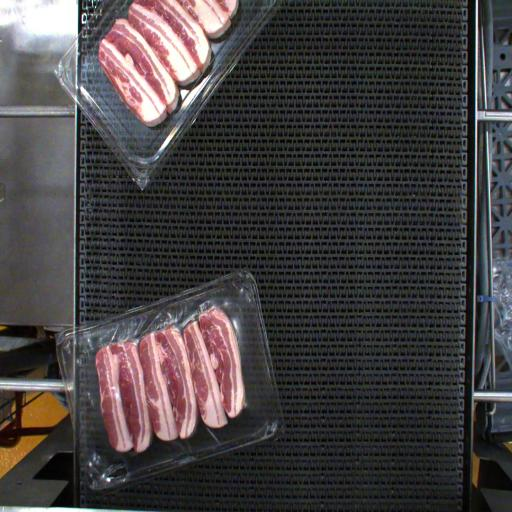unsealed: (62, 300, 268, 446)
